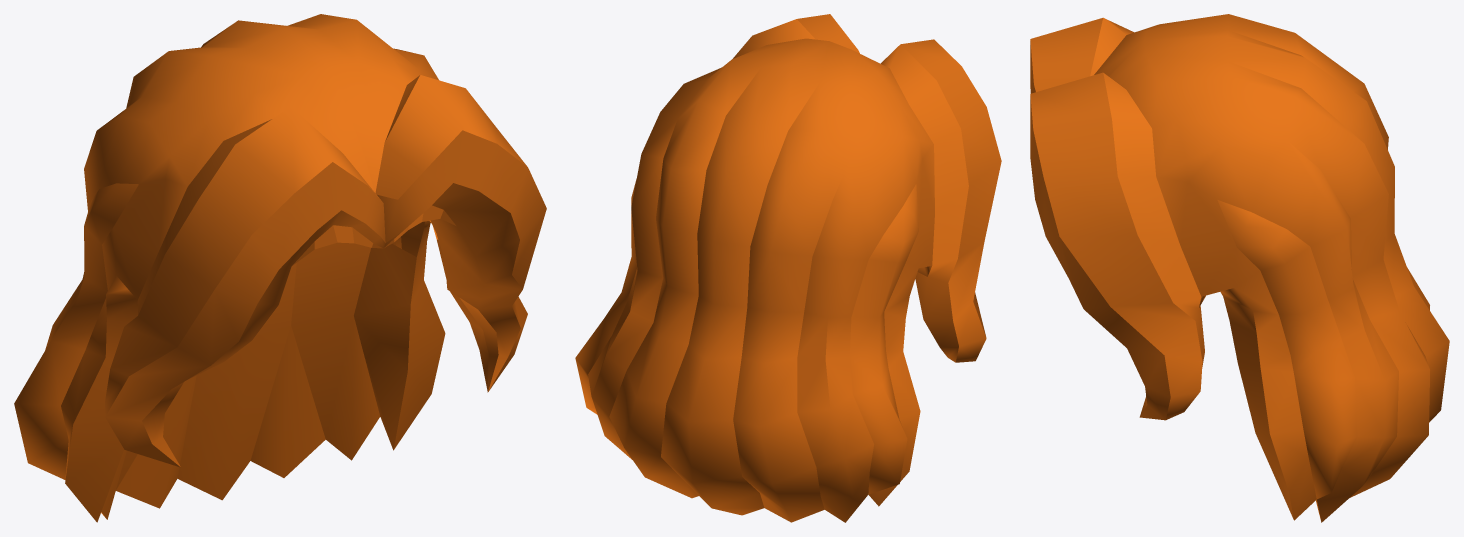
Rendered from Hair_Orange_21.fbx.
The picture shows the model from 3 angles, left to right: view 1: azimuth 30°, elevation 25°; view 2: azimuth 150°, elevation 25°; view 3: azimuth 270°, elevation 25°; orthographic projection. The views are drawn at different scales.
Visible parts, largest first — view 1: Hair_Orange_21; view 2: Hair_Orange_21; view 3: Hair_Orange_21.
Part boxes in pixels (x1=…): Hair_Orange_21: x1=14, y1=14, x2=546, y2=522; Hair_Orange_21: x1=575, y1=14, x2=1001, y2=522; Hair_Orange_21: x1=1030, y1=14, x2=1449, y2=522.
Bounding box in the file's own units: 68.87 × 80.56 × 68.31.
